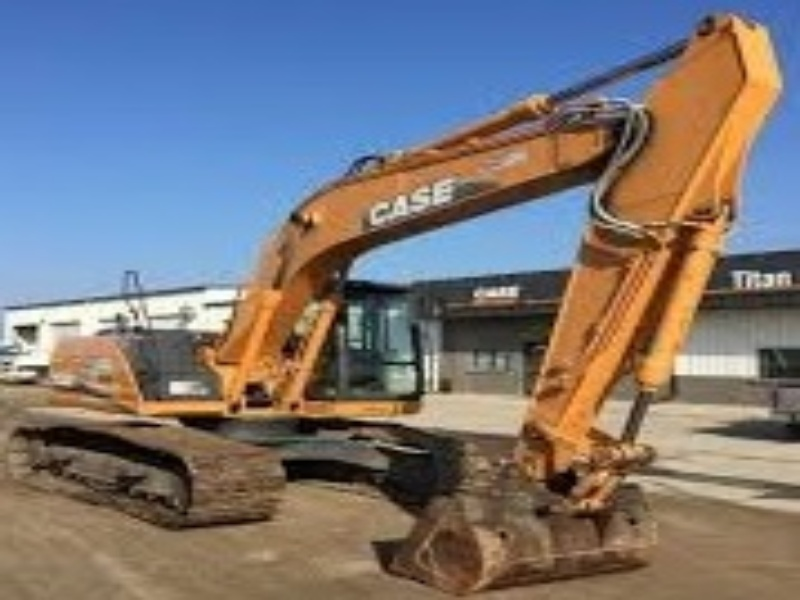wajueji: (12, 124, 551, 564)
